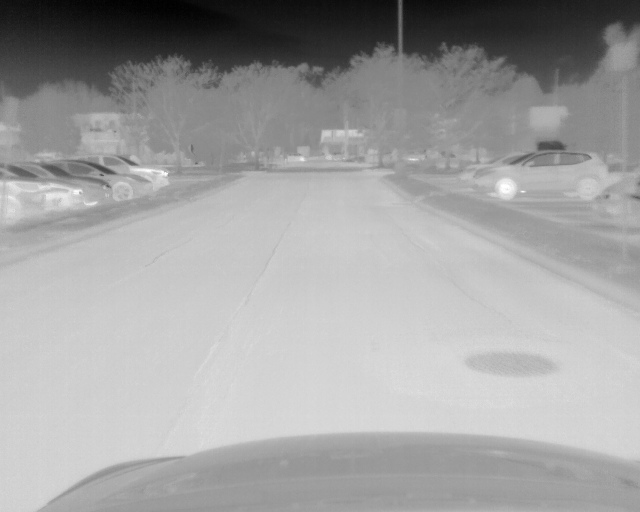car: (476, 149, 611, 202), (7, 162, 112, 204), (1, 163, 80, 213), (55, 161, 152, 201), (72, 155, 168, 191), (459, 150, 529, 187), (1, 175, 46, 230)
